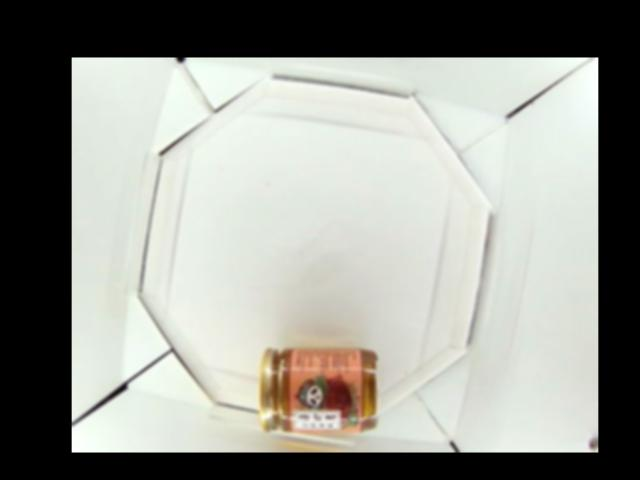Bottle: (258, 345, 378, 434)
